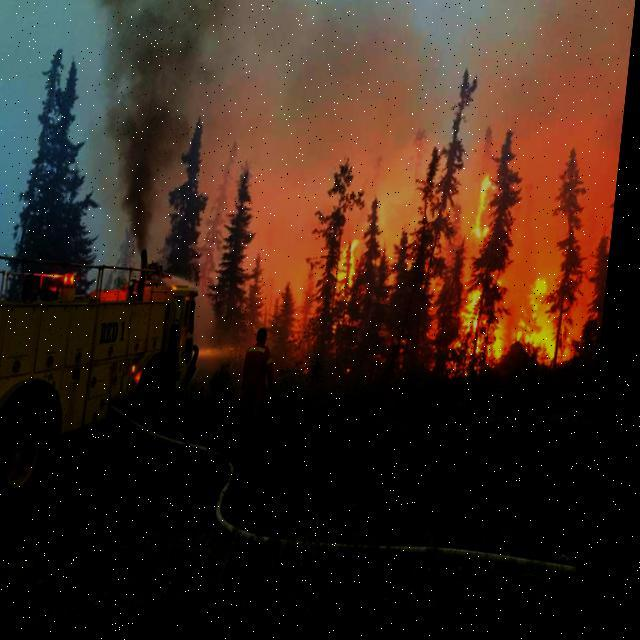Fire: (431, 163, 594, 393), (312, 236, 386, 340)
